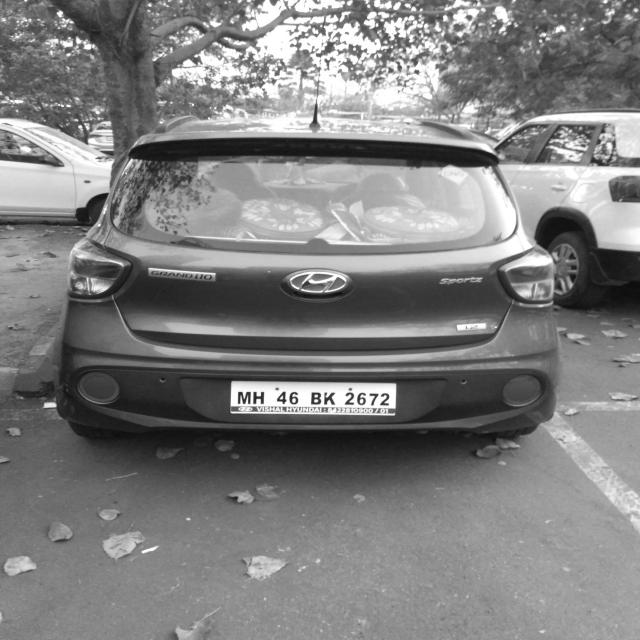car: (54, 105, 568, 446)
license-plate: (232, 378, 400, 420)
